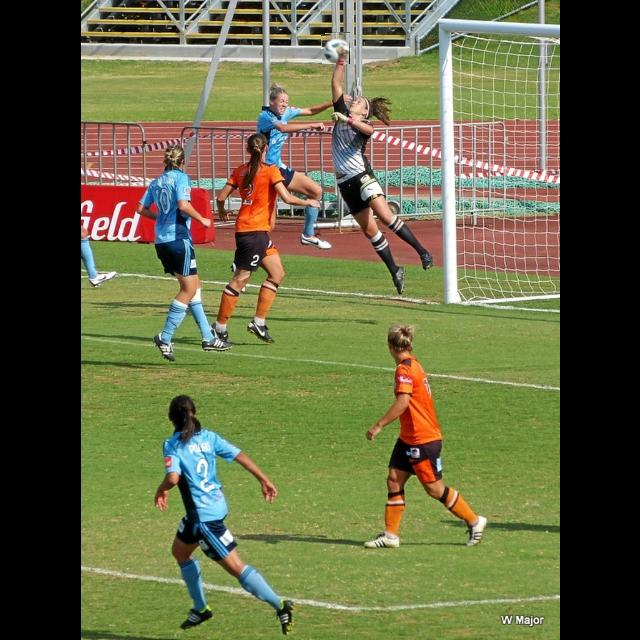Football: (322, 32, 350, 64)
